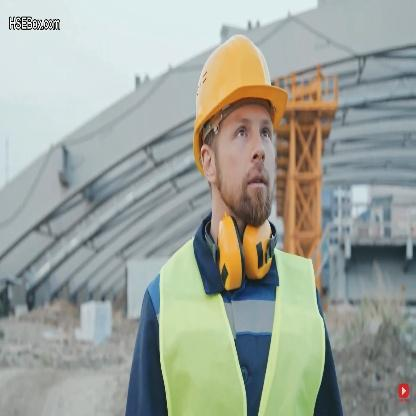helmet: (181, 33, 278, 234)
